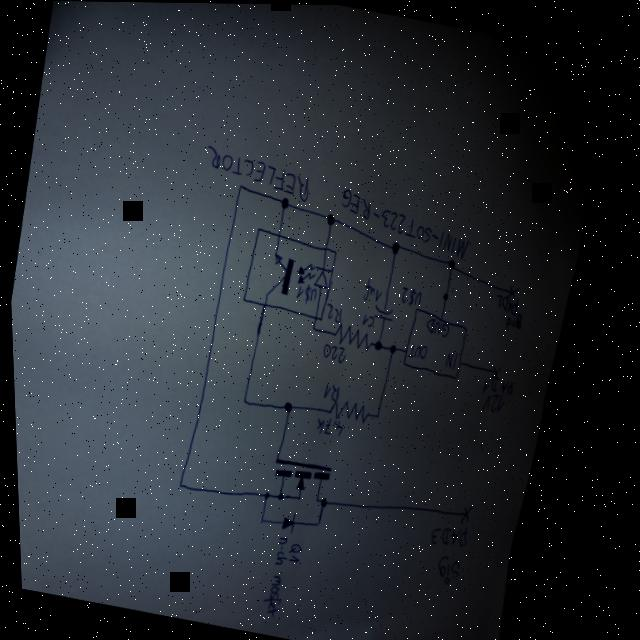capacitor: (371, 303, 393, 320)
diode: (274, 509, 296, 535)
junction: (386, 239, 400, 256), (323, 211, 335, 227), (278, 398, 290, 414), (277, 195, 289, 211), (369, 338, 379, 351), (171, 479, 182, 490), (443, 257, 453, 269), (234, 181, 244, 192), (385, 342, 394, 354), (236, 395, 246, 405), (315, 495, 323, 506), (309, 518, 317, 527), (259, 490, 266, 499), (254, 516, 261, 524), (307, 324, 314, 331), (371, 411, 377, 418)
resistor: (322, 392, 369, 425), (329, 318, 374, 352)
terminal: (455, 503, 469, 521), (503, 283, 517, 299), (486, 362, 499, 379)
text: (334, 185, 475, 250), (199, 142, 312, 202), (254, 554, 289, 620), (423, 519, 466, 550), (267, 536, 299, 577), (429, 552, 460, 586), (477, 372, 511, 398), (308, 414, 340, 437), (316, 381, 341, 410), (316, 341, 345, 364), (291, 280, 316, 306), (477, 389, 502, 414), (357, 277, 381, 303), (421, 315, 448, 337), (396, 284, 421, 307), (491, 291, 516, 313), (501, 310, 522, 333), (322, 302, 341, 323), (407, 341, 425, 359), (355, 310, 373, 328), (440, 349, 455, 369)
transistor: (263, 454, 330, 510)
